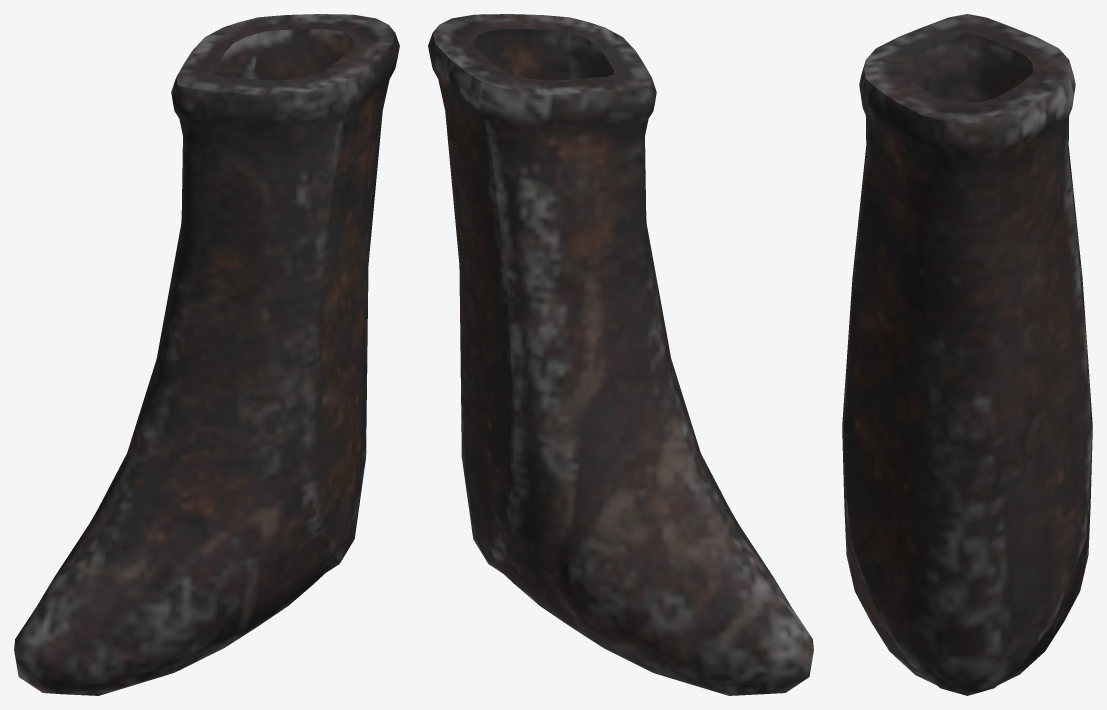
The model's file is wm_dol_goldur_1h_sword_a03_pommel.fbx.
The picture shows the model from 3 angles, left to right: view 1: azimuth 30°, elevation 25°; view 2: azimuth 150°, elevation 25°; view 3: azimuth 270°, elevation 25°; orthographic projection. The views are drawn at different scales.
Parts seen in each view (by area): view 1: wm_dol_goldur_1h_sword_a03_pommel; view 2: wm_dol_goldur_1h_sword_a03_pommel; view 3: wm_dol_goldur_1h_sword_a03_pommel.
Boxes of the visible parts, x1,y1,x2,y2 form: wm_dol_goldur_1h_sword_a03_pommel: [14, 14, 399, 695]; wm_dol_goldur_1h_sword_a03_pommel: [428, 14, 813, 695]; wm_dol_goldur_1h_sword_a03_pommel: [842, 14, 1092, 695].
Size of the model in its own units: 0.0862 by 0.0425 by 0.1289.
1 material, 1 textured.
